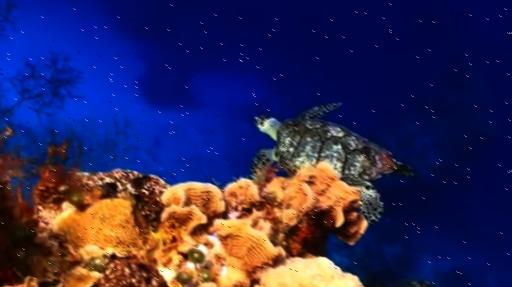Fish: (252, 103, 413, 222)
